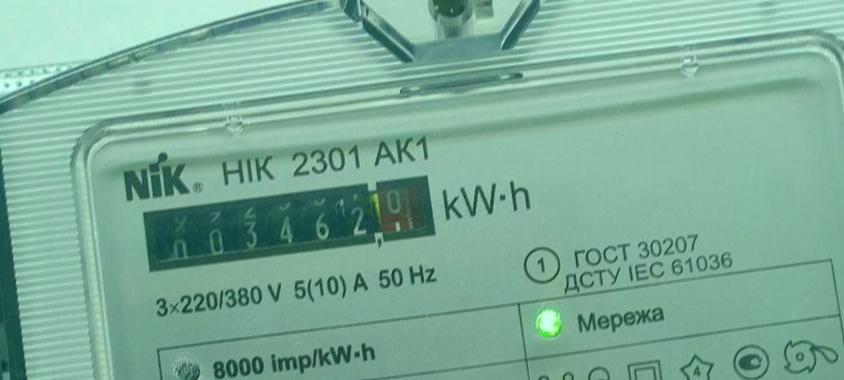0: (205, 224, 227, 256), (384, 186, 404, 216), (168, 235, 190, 260)
2: (348, 203, 370, 237)
3: (240, 218, 262, 252)
4: (276, 212, 297, 246)
6: (310, 208, 334, 244)
9: (168, 213, 191, 234)
screen: (128, 161, 449, 292)
